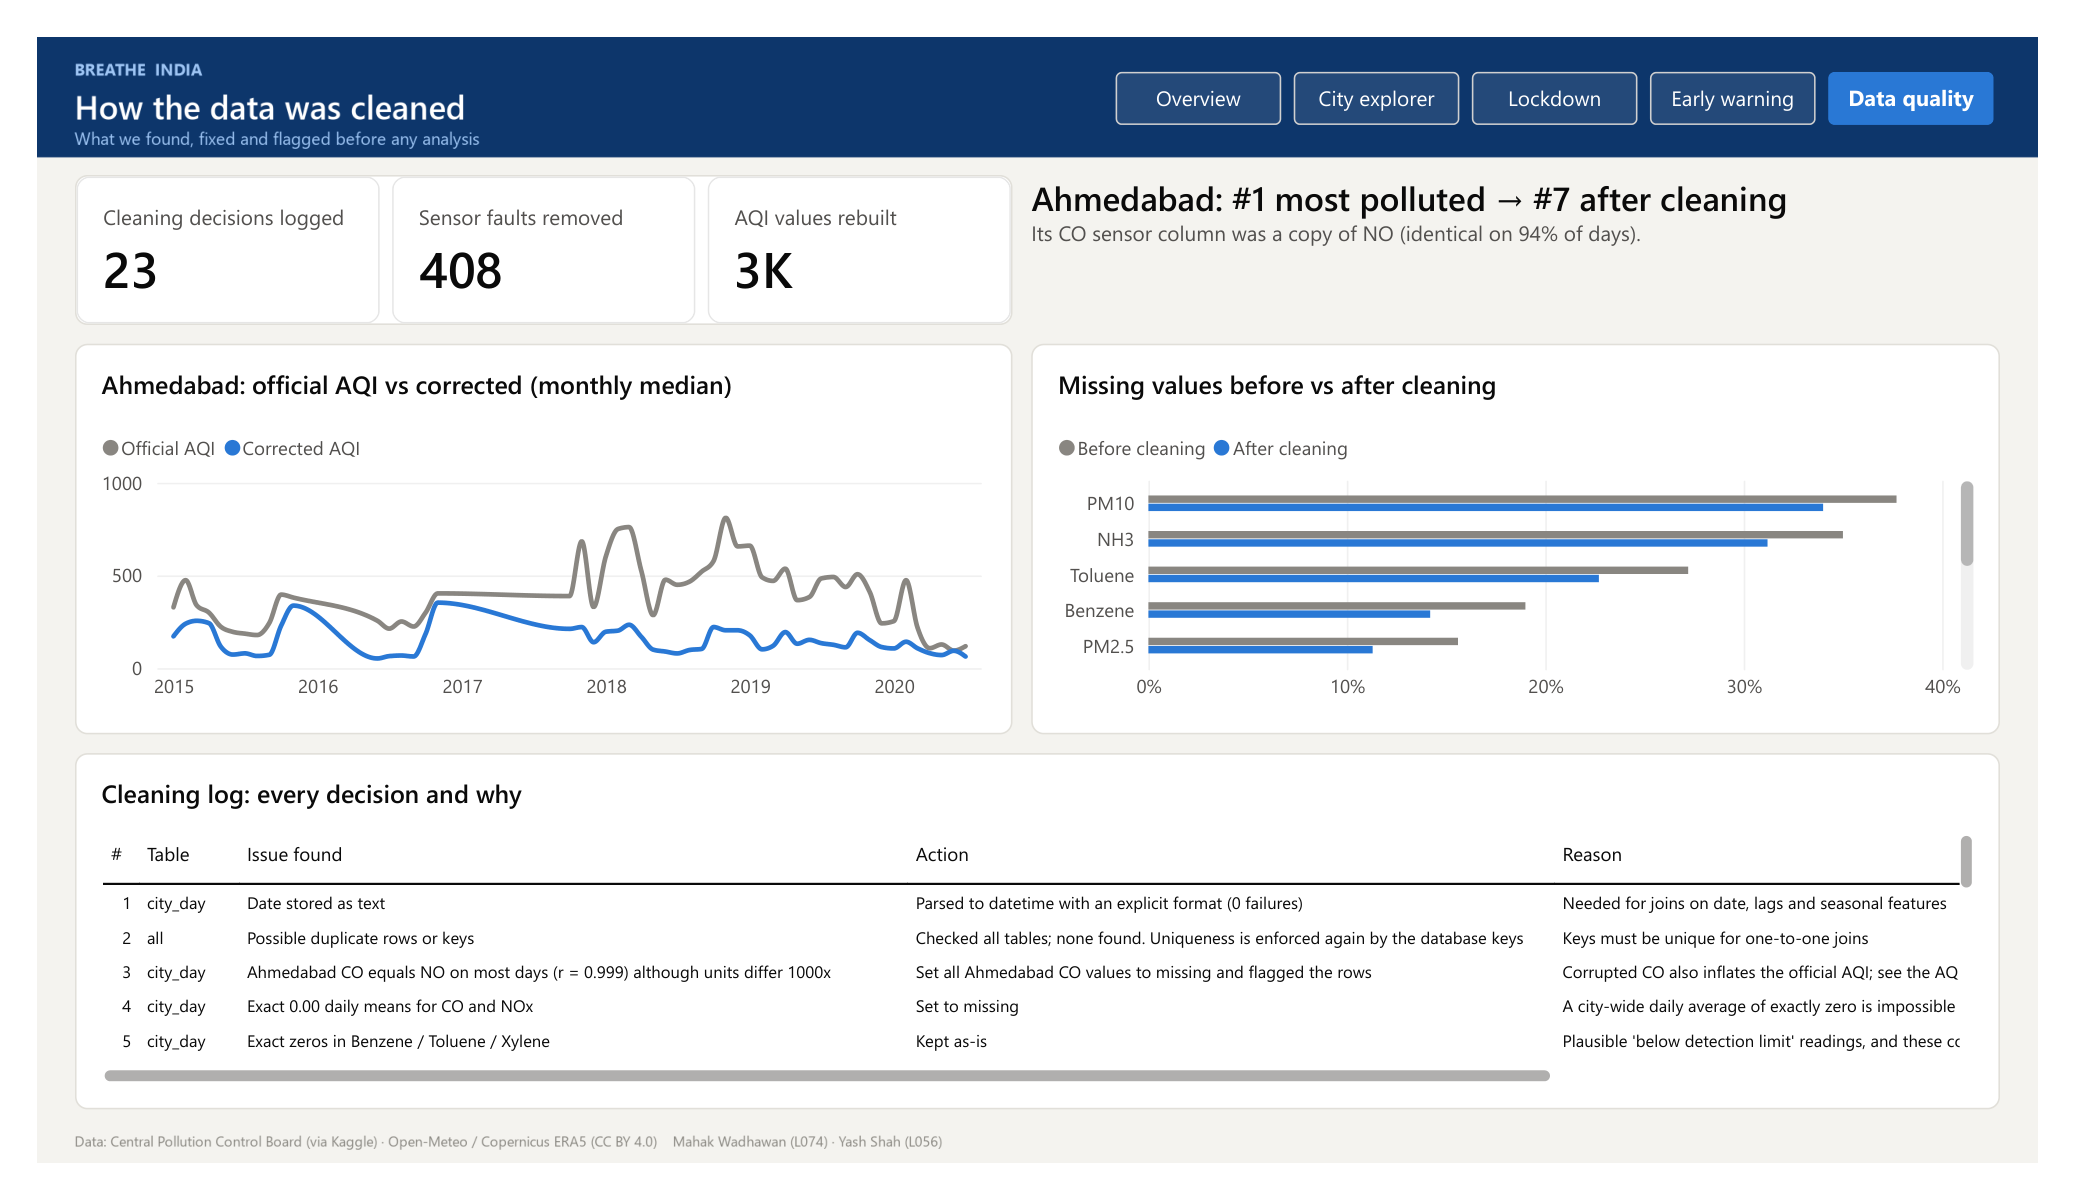

The dashboard page shown, as its layout file describes it:
{"tool":"powerbi","page":{"name":"Data quality","canvas":[1280,720],"ordinal":4},"visuals":[{"type":"cardVisual","fields":{"Data":["_Measures.Cleaning Steps","_Measures.Sensor Faults Removed","_Measures.AQI Values Rebuilt"]},"box":[24,88,600,96],"z":1000},{"type":"textbox","box":[636,88,620,96],"z":1000},{"type":"lineChart","title":"Ahmedabad: official AQI vs corrected (monthly median)","fields":{"Category":["dim_date.YearMonth"],"Y":["_Measures.Median Official AQI","_Measures.Median AQI"]},"box":[24,196,600,250],"z":1000},{"type":"clusteredBarChart","title":"Missing values before vs after cleaning","fields":{"Category":["data_quality.pollutant"],"Y":["_Measures.Missing Before %","_Measures.Missing After %"]},"box":[636,196,620,250],"z":1000},{"type":"tableEx","title":"Cleaning log: every decision and why","fields":{"Values":["cleaning_log.step","cleaning_log.table","cleaning_log.issue","cleaning_log.action","cleaning_log.reason","cleaning_log.rows_affected"]},"box":[24,458,1232,228],"z":1000},{"type":"pageNavigator","box":[690,22,566,34],"z":5000}]}

Visuals, with their boxes on the page's 1280x720 design canvas (x1, y1, x2, y2). These are canvas units, not pixel positions in the 2075x1200 screenshot, which may show the page scaled, cropped or inside an application window:
cardVisual - _Measures.Cleaning Steps x _Measures.Sensor Faults Removed: (x1=24, y1=88, x2=624, y2=184)
textbox: (x1=636, y1=88, x2=1256, y2=184)
"Ahmedabad: official AQI vs corrected (monthly median)" lineChart: (x1=24, y1=196, x2=624, y2=446)
"Missing values before vs after cleaning" clusteredBarChart: (x1=636, y1=196, x2=1256, y2=446)
"Cleaning log: every decision and why" tableEx: (x1=24, y1=458, x2=1256, y2=686)
pageNavigator: (x1=690, y1=22, x2=1256, y2=56)
